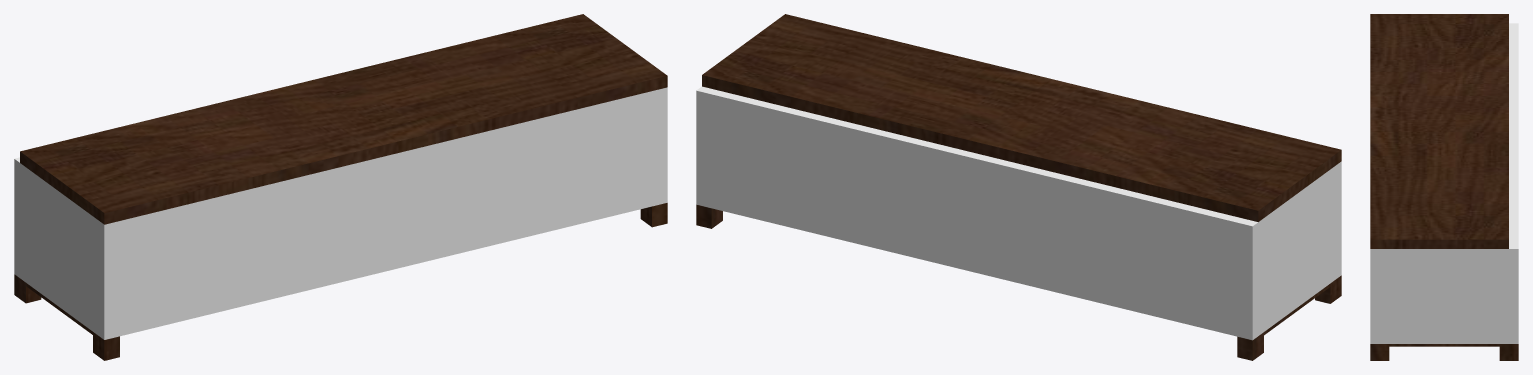
The picture shows the model from 3 angles, left to right: view 1: azimuth 30°, elevation 25°; view 2: azimuth 150°, elevation 25°; view 3: azimuth 270°, elevation 25°; orthographic projection. The views are drawn at different scales.
Visible parts, largest first — view 1: mesh1_mesh1-geometry_2, mesh1_mesh1-geometry_1; view 2: mesh1_mesh1-geometry_2, mesh1_mesh1-geometry_1, mesh1_mesh1-geometry; view 3: mesh1_mesh1-geometry_1, mesh1_mesh1-geometry_2, mesh1_mesh1-geometry.
Part boxes in pixels (left/top/right/bottom): mesh1_mesh1-geometry_2: left=14, top=87, right=667, bottom=339; mesh1_mesh1-geometry_1: left=14, top=14, right=667, bottom=360; mesh1_mesh1-geometry_2: left=696, top=90, right=1341, bottom=340; mesh1_mesh1-geometry_1: left=696, top=14, right=1341, bottom=360; mesh1_mesh1-geometry: left=696, top=86, right=1257, bottom=226; mesh1_mesh1-geometry_1: left=1370, top=14, right=1518, bottom=360; mesh1_mesh1-geometry_2: left=1370, top=249, right=1518, bottom=343; mesh1_mesh1-geometry: left=1509, top=23, right=1518, bottom=248.
Size of the model in its own units: 0.9367 by 0.2349 by 0.2597.
Materials: 3 (1 with a texture image).
